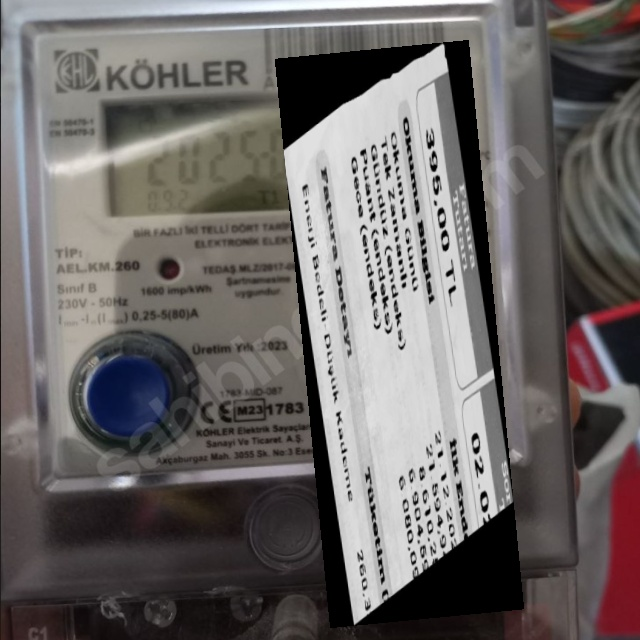electricity-bill: (274, 40, 523, 628)
